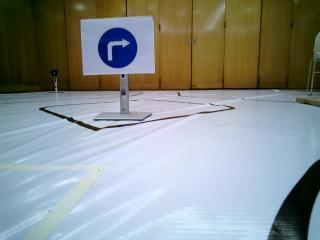right: (80, 20, 156, 73)
